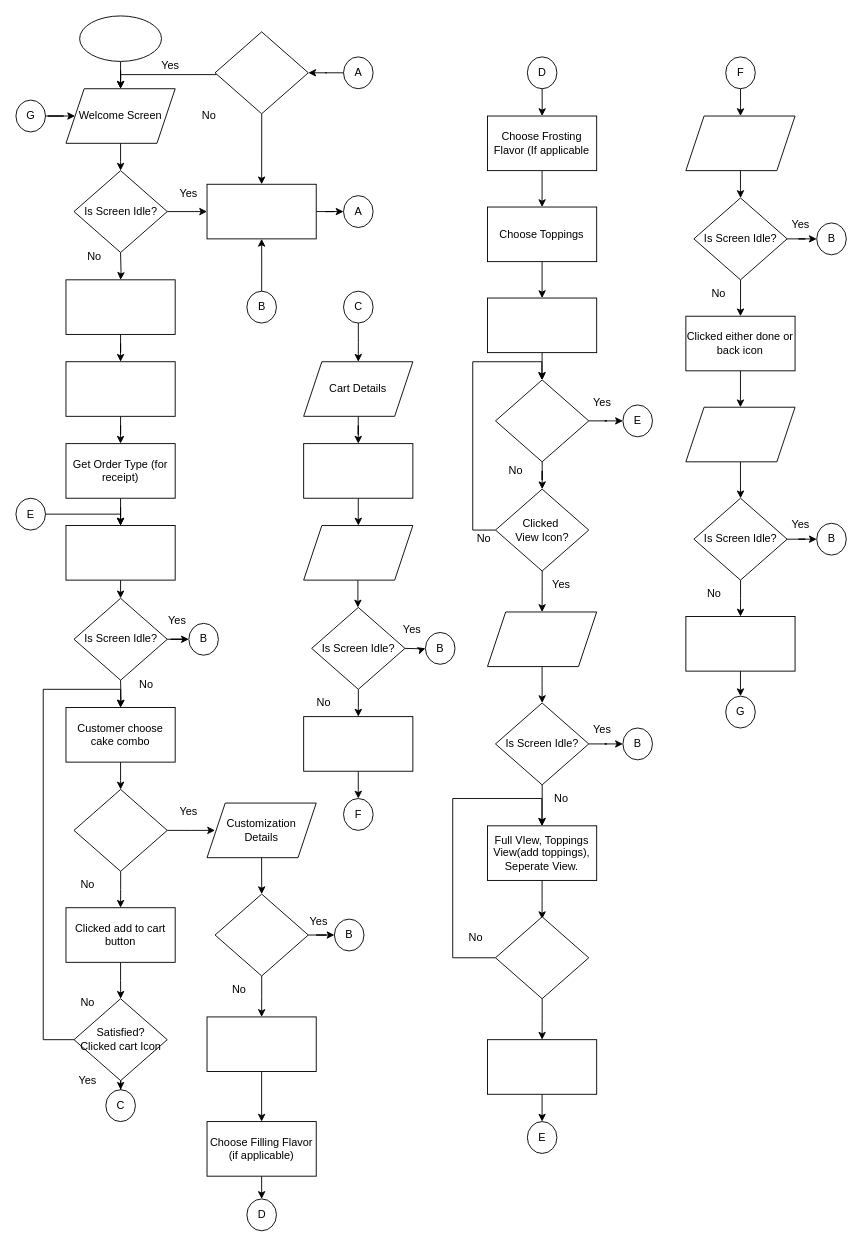
Some shapes in this 863 by 1247 pixel diagram are drawn without their labels. Each missing label, with the centre of its shape:
"Choose Layer Flavor (if applicable)" goes at (261,1044).
"Choose Payment Type" goes at (358,743).
"Clicked Add to cart?" goes at (542,957).
"Clicked back Button?" goes at (542,420).
"Clicked Proceed to checkout" goes at (358,470).
"Custom cake added to cart" goes at (542,1066).
"Customer clicked view?" goes at (120,830).
"Customer tapped the kiosk?" goes at (261,72).
"Customization Screen" goes at (542,639).
"Enter Dedication" goes at (542,325).
"Flash Promotional Image/s" goes at (261,211).
"Is Screen Idle" goes at (261,934).
"Order Again" goes at (740,643).
"Order Now" goes at (120,306).
"Order Type" goes at (120,388).
"Payment Method Card / QR" goes at (358,552).
"Proceed to Menu Screen" goes at (120,552).
"Receipt" goes at (740,143).
"Start" goes at (120,38).
"Thank you Screen" goes at (740,434).
